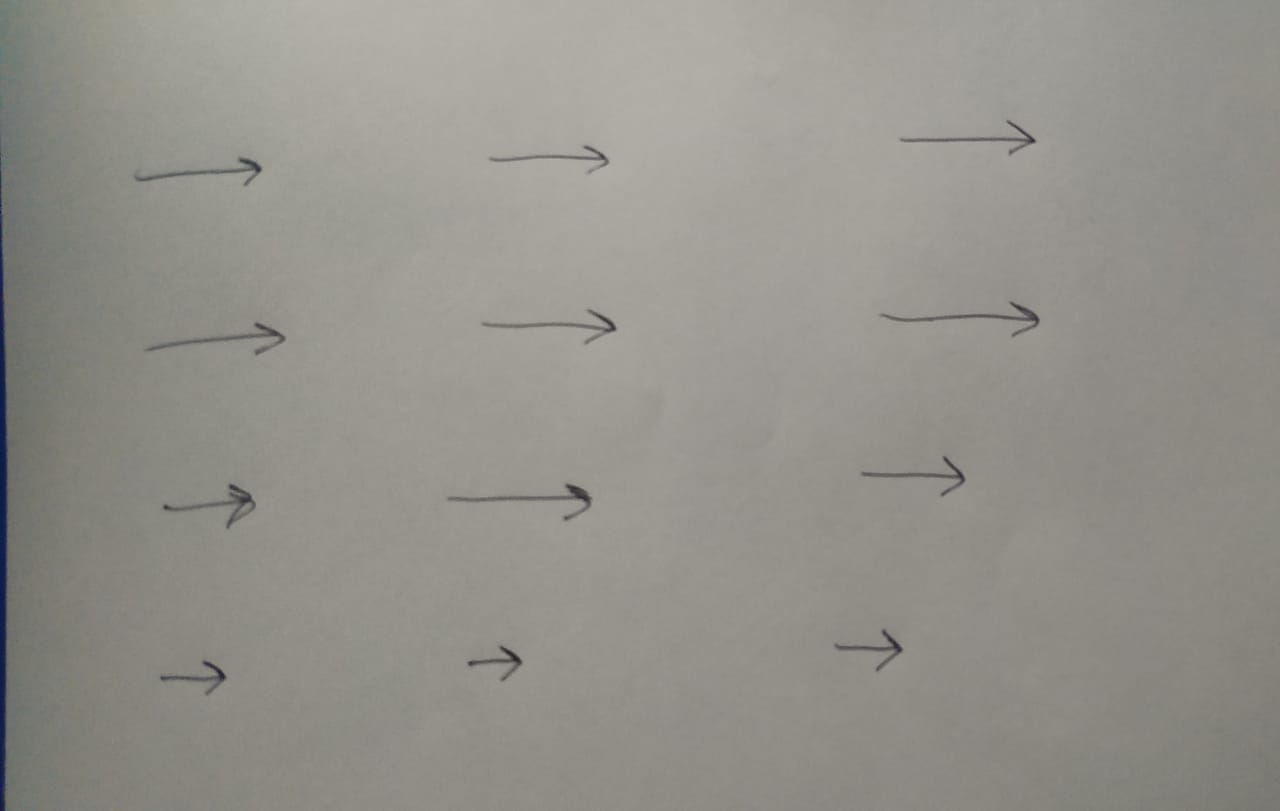arrow_line_right: (875, 286, 1048, 349), (443, 474, 608, 531), (895, 109, 1050, 169), (138, 313, 298, 369), (473, 296, 625, 353), (125, 143, 272, 199), (483, 133, 623, 188), (857, 443, 975, 508), (153, 474, 272, 536), (833, 619, 918, 681), (150, 646, 242, 703), (460, 639, 542, 691)
